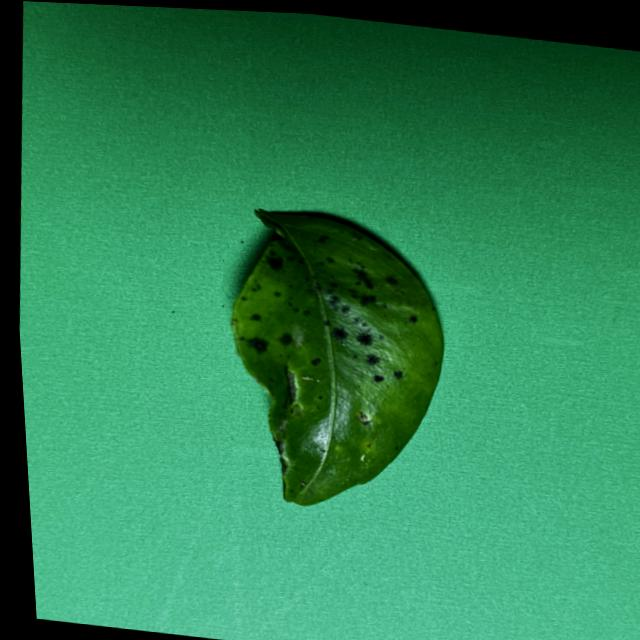sooty_mold: (231, 210, 442, 504)
